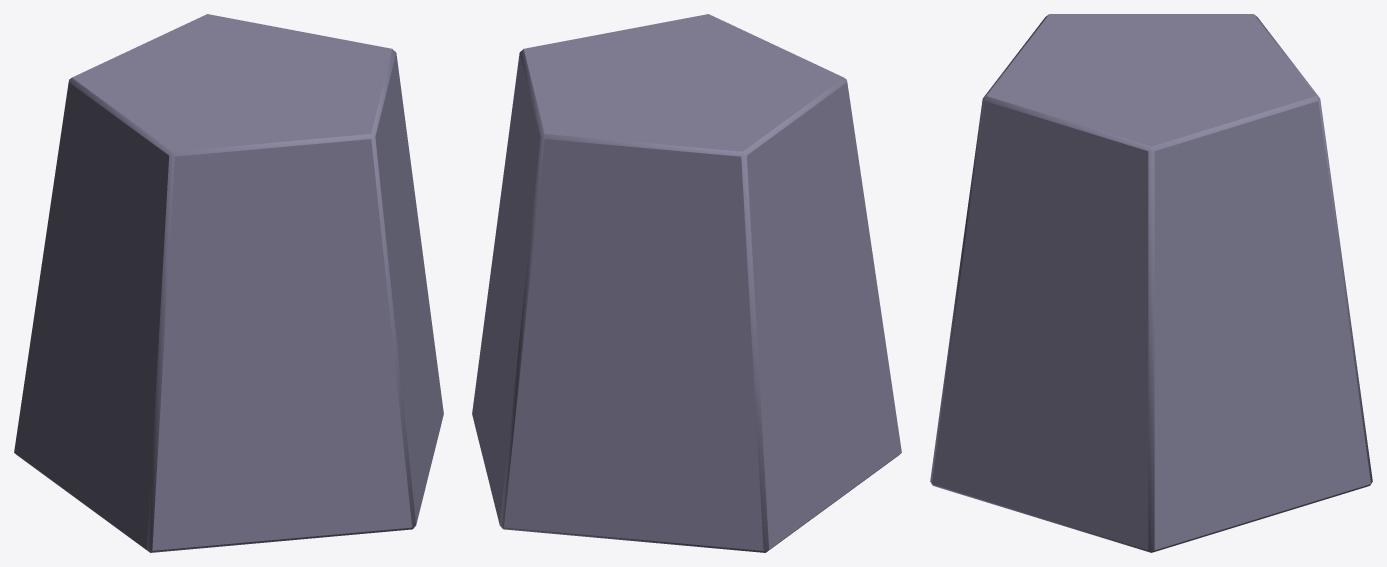
The model's file is stone_marker_small_01.glb.
The picture shows the model from 3 angles, left to right: view 1: azimuth 30°, elevation 25°; view 2: azimuth 150°, elevation 25°; view 3: azimuth 270°, elevation 25°; orthographic projection.
Visible parts, largest first — view 1: stone_marker_small_01; view 2: stone_marker_small_01; view 3: stone_marker_small_01.
Part boxes in pixels (x1,y1,x2,y2): stone_marker_small_01: (14, 14, 443, 552); stone_marker_small_01: (472, 14, 901, 552); stone_marker_small_01: (930, 14, 1372, 552).
Bounding box in the file's own units: 0.4489 × 0.45 × 0.472.
